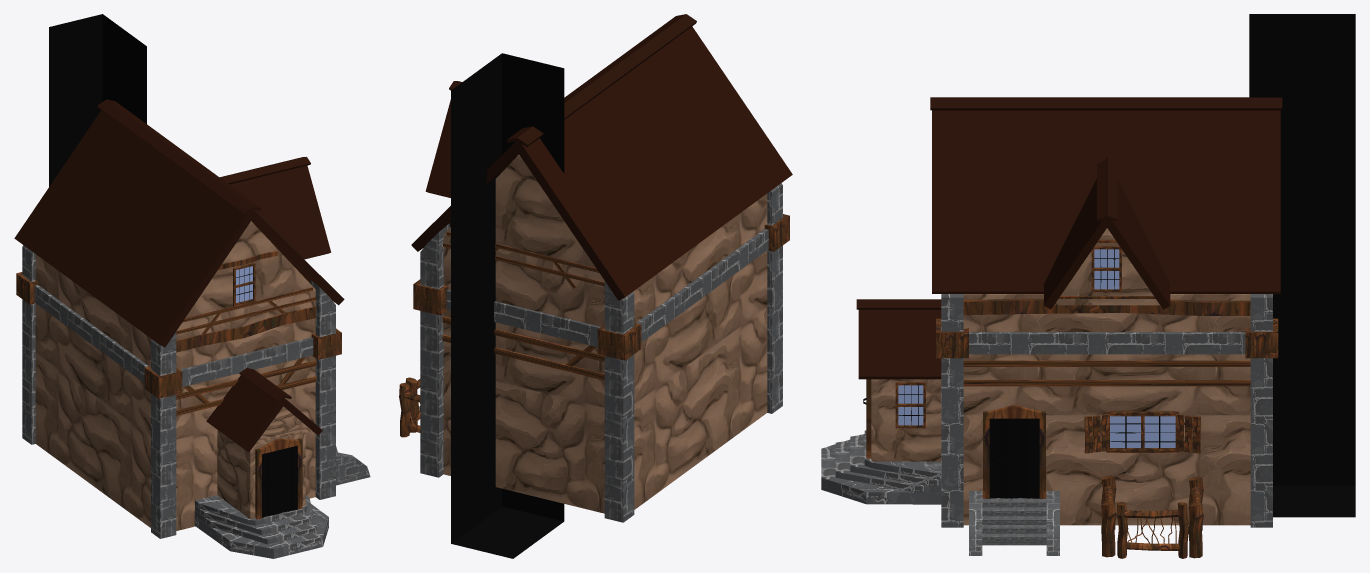
Rendered from house2.fbx.
The picture shows the model from 3 angles, left to right: view 1: azimuth 30°, elevation 25°; view 2: azimuth 150°, elevation 25°; view 3: azimuth 270°, elevation 25°; orthographic projection. The views are drawn at different scales.
Parts seen in each view (by area): view 1: Cube.016; view 2: Cube.016; view 3: Cube.016.
Boxes of the visible parts, left/top/right/bottom form: Cube.016: left=14, top=14, right=370, bottom=558; Cube.016: left=399, top=14, right=792, bottom=558; Cube.016: left=821, top=14, right=1355, bottom=558.
Bounding box in the file's own units: 755 × 1223 × 1255.
